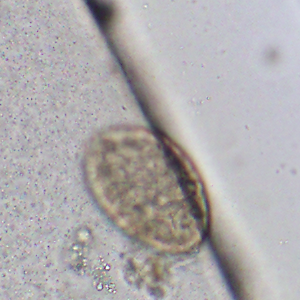Fasciola_hepatica_egg: (80, 123, 212, 257)
